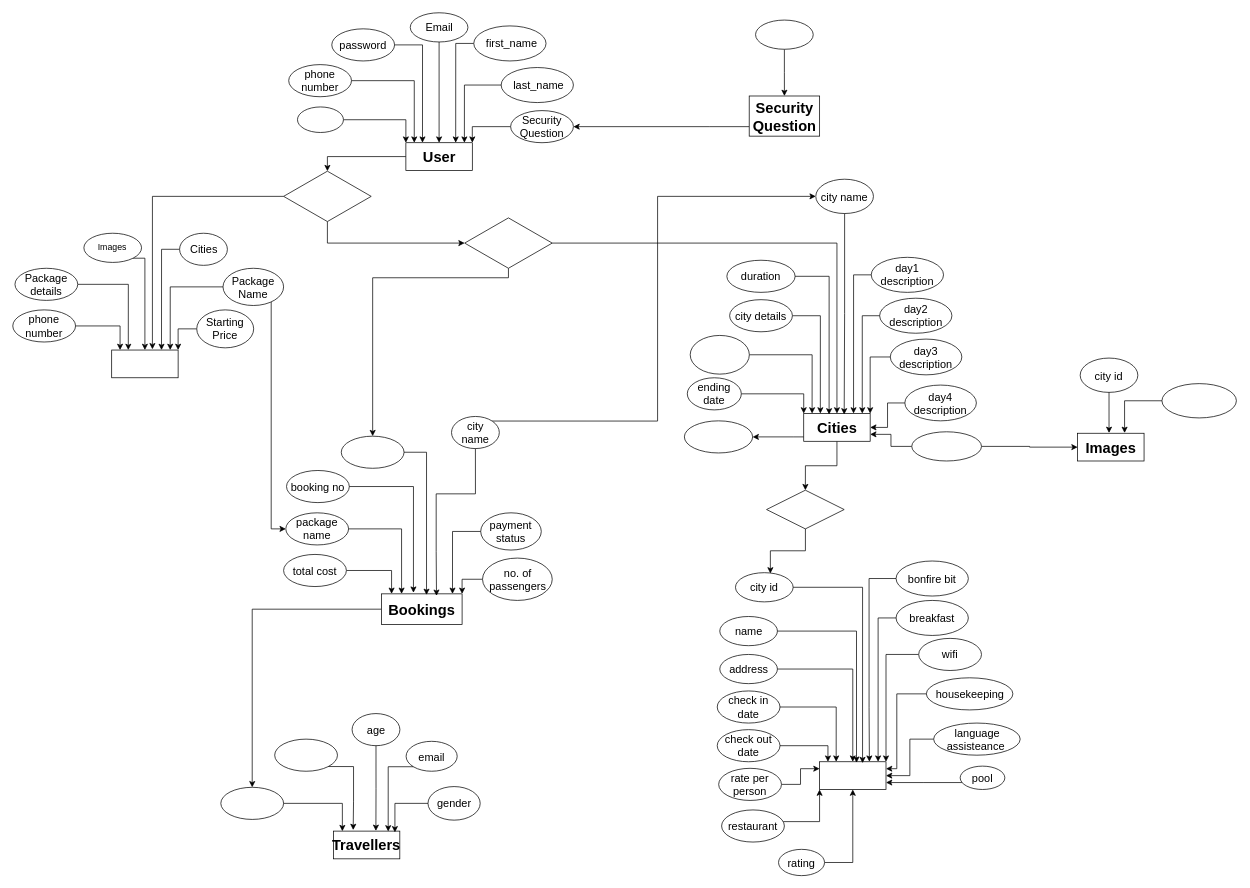
The diagram is 1250 pixels wide and 888 high, and some of its shapes have lost their labels. The shapes that lost their labels are listed below. From the top down, each one's box as (x1, y1, x2, y2) in pixels, then its label:
(755, 19, 813, 49): Questions
(297, 106, 343, 132): Role
(283, 170, 371, 222): Availability
(464, 217, 552, 268): Login
(111, 349, 178, 378): Package
(689, 335, 749, 374): starting date
(1161, 383, 1236, 418): image path
(341, 435, 404, 468): user id
(684, 420, 753, 453): Package id
(911, 431, 981, 461): city images
(766, 489, 844, 529): search for
(274, 738, 337, 771): aadhar no.
(819, 761, 886, 789): Hotels
(220, 787, 284, 819): booking id
